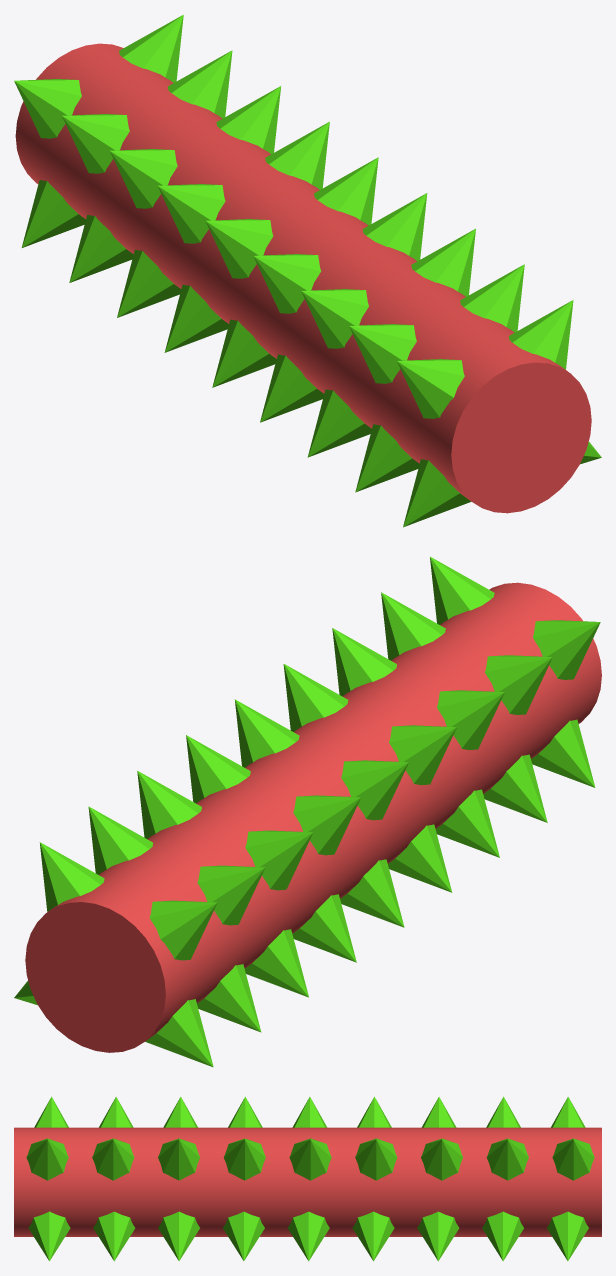
File: LogWithSpikes.fbx
The picture shows the model from 3 angles, top to bottom: view 1: azimuth 30°, elevation 25°; view 2: azimuth 150°, elevation 25°; view 3: azimuth 270°, elevation 25°; orthographic projection. The views are drawn at different scales.
Parts seen in each view (by area): view 1: Cylinder, Cone; view 2: Cylinder, Cone; view 3: Cylinder, Cone.
Part boxes in pixels (bbox=[...]): Cylinder: bbox=[15, 43, 591, 513]; Cone: bbox=[14, 15, 601, 527]; Cylinder: bbox=[25, 582, 601, 1052]; Cone: bbox=[14, 556, 600, 1067]; Cylinder: bbox=[14, 1127, 601, 1236]; Cone: bbox=[26, 1096, 594, 1261].
Bounding box in the file's own units: 290 × 257 × 1075.
